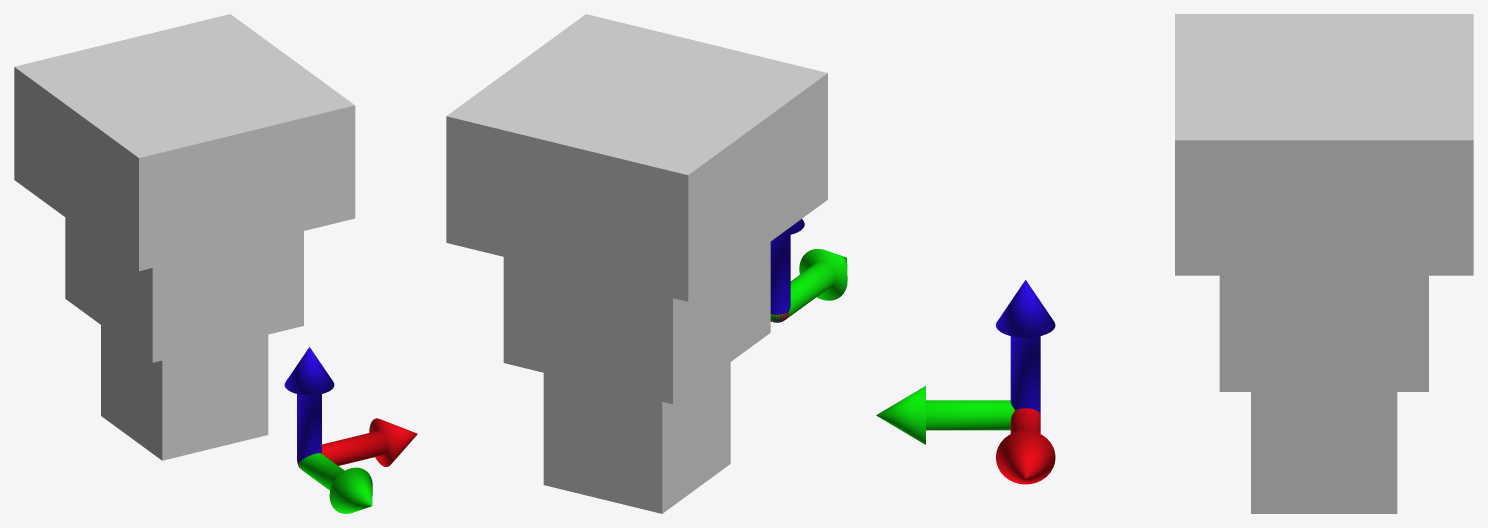
Rendered from axis_arrows.glb.
3 views of the same model, side by side, from view 1: azimuth 30°, elevation 25°; view 2: azimuth 150°, elevation 25°; view 3: azimuth 270°, elevation 25° (orthographic). The views are drawn at different scales.
Visible parts, largest first — view 1: cube1, cube2, cube3, axisZ, axisX, axisY; view 2: cube1, cube2, cube3, axisY, axisZ; view 3: cube1, cube2, cube3, axisZ, axisY, axisX.
Part boxes in pixels (box(x1,y1,x2,y2)): cube1: box(14, 14, 355, 271); cube2: box(65, 217, 303, 362); cube3: box(101, 325, 268, 460); axisZ: box(284, 347, 334, 463); axisX: box(297, 418, 417, 467); axisY: box(297, 453, 372, 513); cube1: box(446, 14, 827, 301); cube2: box(503, 242, 770, 404); cube3: box(543, 362, 730, 513); axisY: box(770, 249, 847, 322); axisZ: box(770, 219, 804, 322); cube1: box(1175, 14, 1473, 275); cube2: box(1219, 275, 1428, 391); cube3: box(1251, 392, 1397, 513); axisZ: box(996, 280, 1055, 414); axisY: box(876, 386, 1014, 444); axisX: box(996, 408, 1055, 484).
Size of the model in its own units: 2 by 3 by 4.
